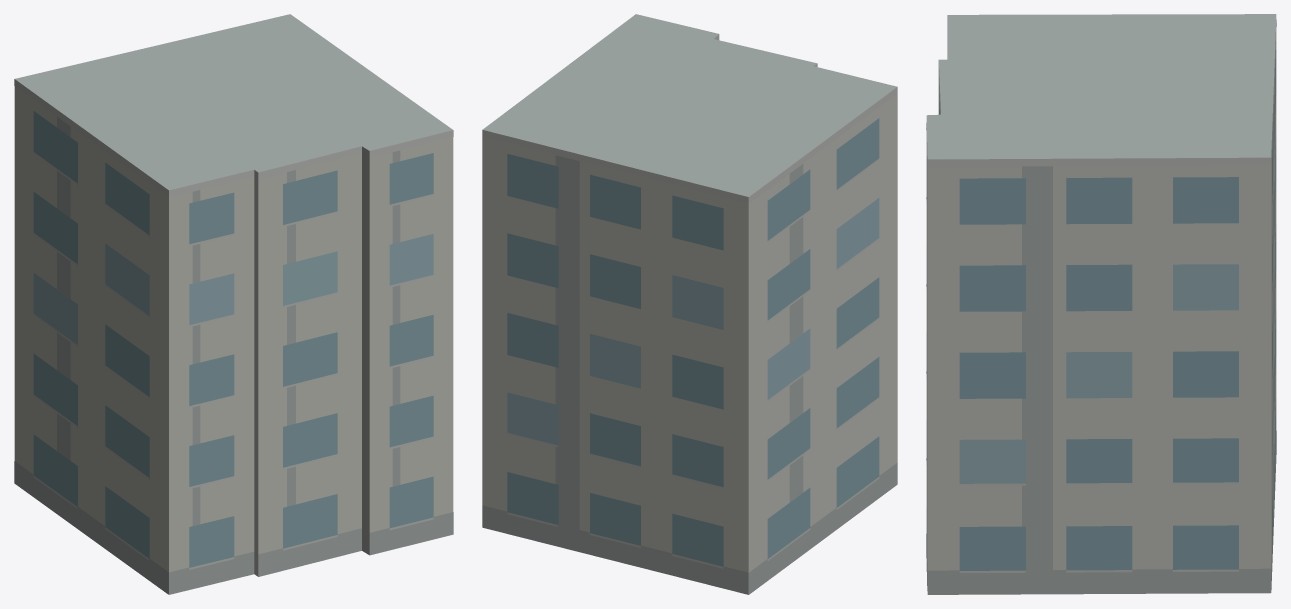
Rendered from survey-upis-32874892.glb.
3 renders of one model, left to right at view 1: azimuth 30°, elevation 25°; view 2: azimuth 150°, elevation 25°; view 3: azimuth 270°, elevation 25°, orthographic. The views are drawn at different scales.
Parts seen in each view (by area): view 1: survey-upis-32874892.tmp; view 2: survey-upis-32874892.tmp; view 3: survey-upis-32874892.tmp.
Part boxes in pixels (bbox=[...]): survey-upis-32874892.tmp: bbox=[14, 14, 453, 594]; survey-upis-32874892.tmp: bbox=[482, 14, 897, 594]; survey-upis-32874892.tmp: bbox=[926, 14, 1276, 594].
Bounding box in the file's own units: 10.11 × 14.1 × 10.28.
